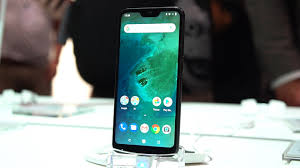mi: (111, 3, 184, 159)
